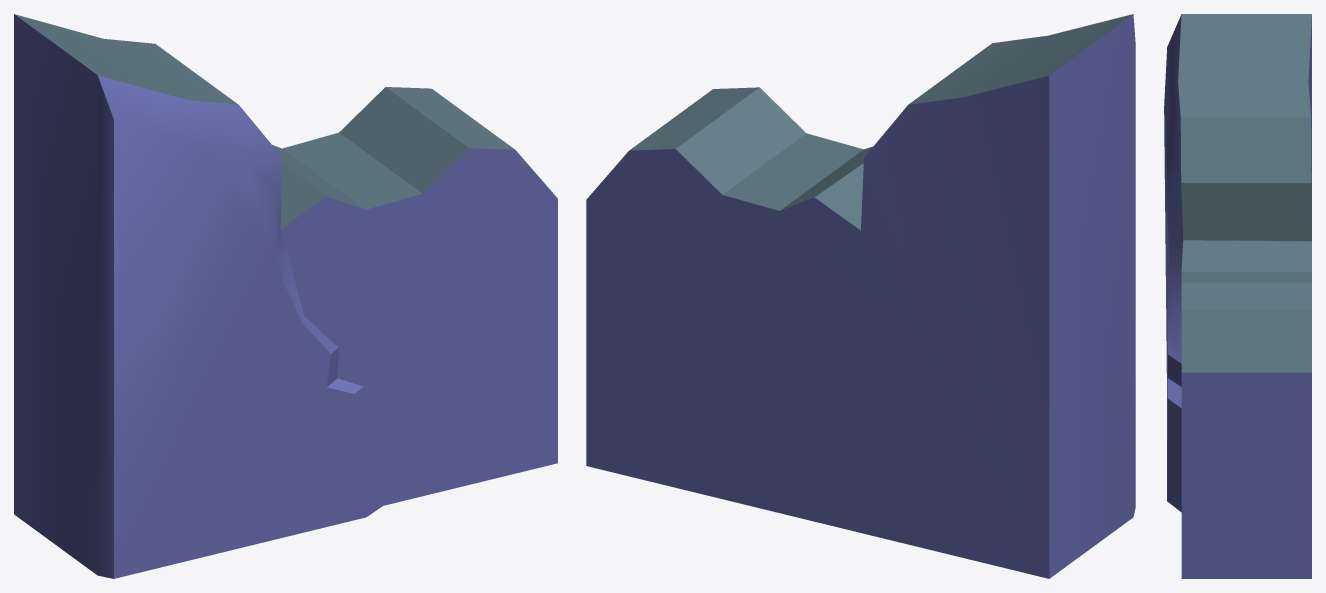
Rendered from lapide_quebrada_1.fbx.
3 views of the same model, side by side, from view 1: azimuth 30°, elevation 25°; view 2: azimuth 150°, elevation 25°; view 3: azimuth 270°, elevation 25° (orthographic). The views are drawn at different scales.
Parts seen in each view (by area): view 1: lapide_quebrada_1; view 2: lapide_quebrada_1; view 3: lapide_quebrada_1.
Part boxes in pixels (x1,y1,x2,y2): lapide_quebrada_1: (14, 14, 557, 578); lapide_quebrada_1: (586, 14, 1135, 578); lapide_quebrada_1: (1164, 14, 1311, 578).
Bounding box in the file's own units: 200 × 208 × 71.37.
